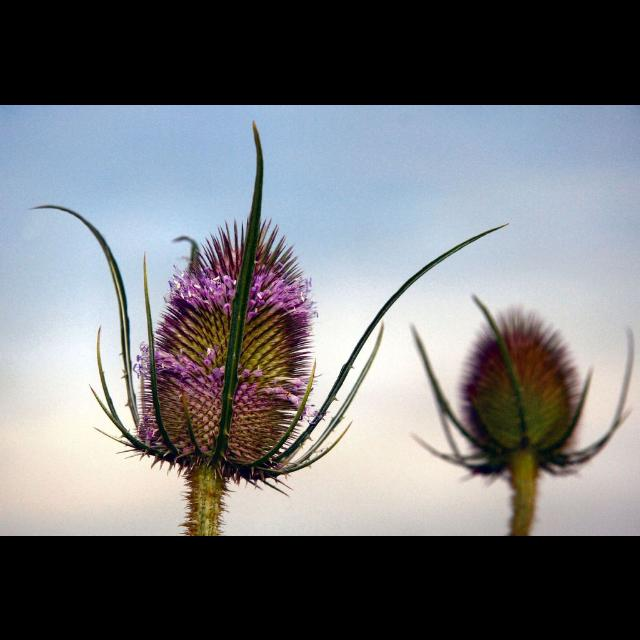Flower: (60, 165, 434, 517), (410, 291, 640, 495)
